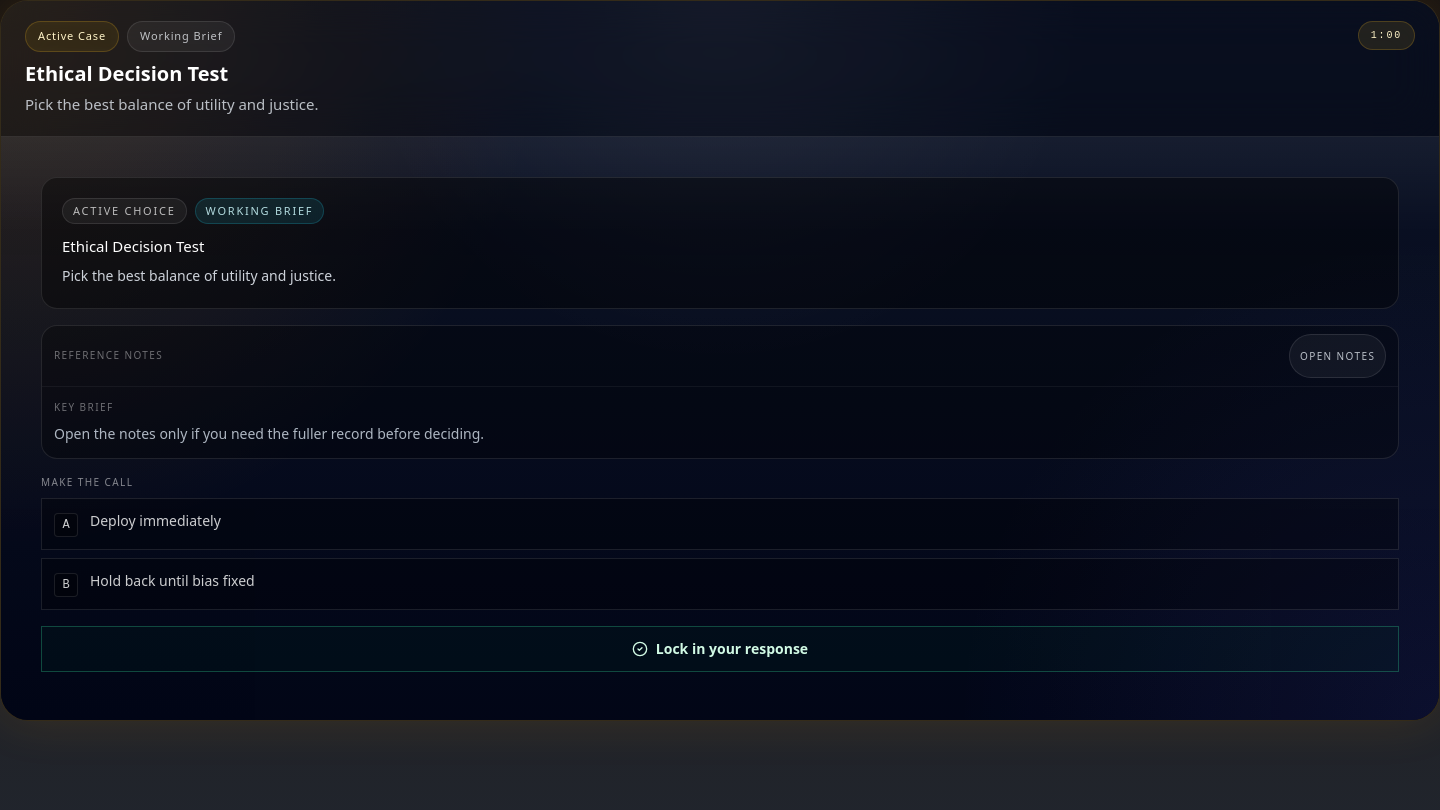
Test case: SimulationRenderer (data_analysis) › collapses the case file by default on compact mobile viewports
Expected: the text "Open the notes only if you need the fuller record before deciding" is shown, [54,424,484,443]
Expected: the text "options:" is not shown
Click the button "Open notes". click: (1337,356)
box: [1289,334,1386,378]
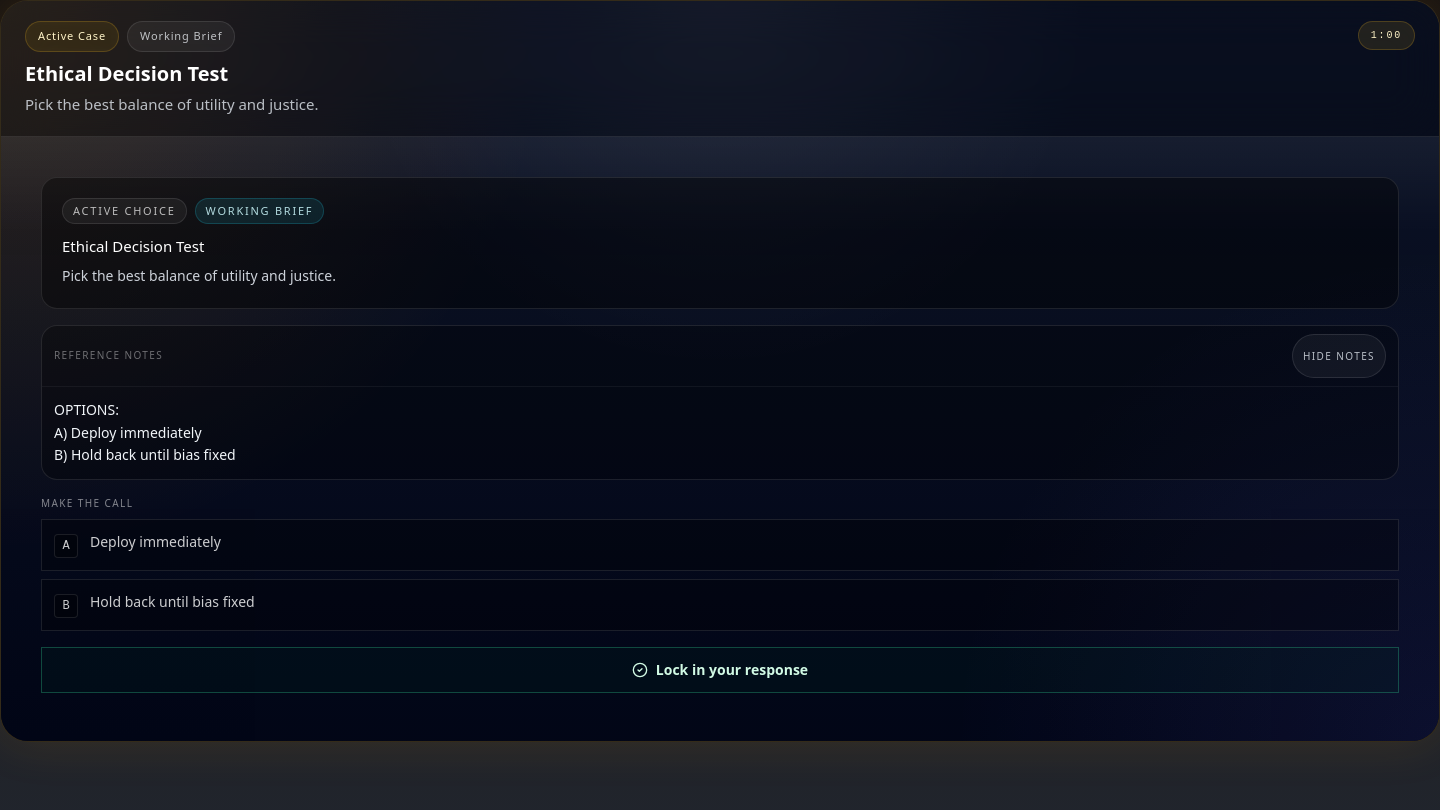
Expected: the text "OPTIONS: A) Deploy immediately B) Hold back until bias fixed" is shown, [54,400,236,464]
Expected: the button "Hide notes" is shown, [1292,334,1386,378]
